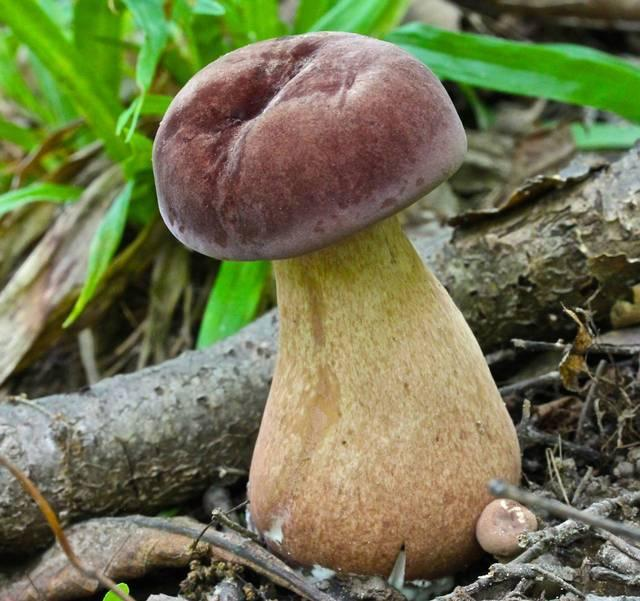poisonous_mushroom: (149, 29, 527, 581)
